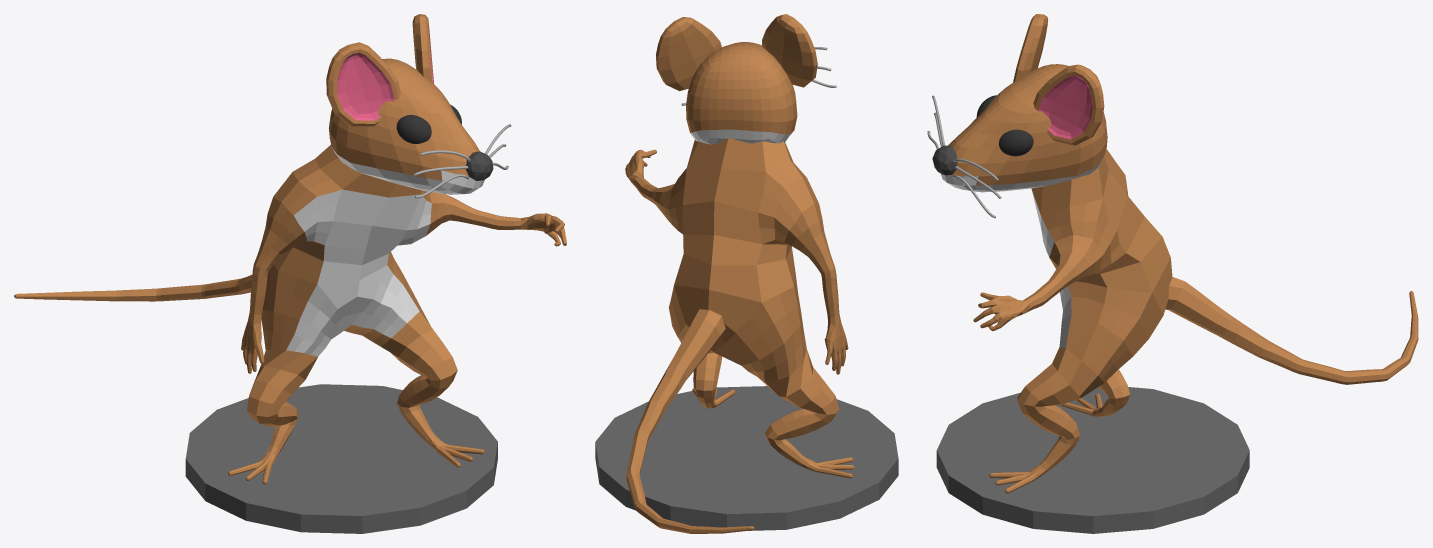
Rendered from Whiskers.glb.
The picture shows the model from 3 angles, left to right: view 1: azimuth 30°, elevation 25°; view 2: azimuth 150°, elevation 25°; view 3: azimuth 270°, elevation 25°; orthographic projection. The views are drawn at different scales.
Parts seen in each view (by area): view 1: WhiskersST; view 2: WhiskersST; view 3: WhiskersST.
Part boxes in pixels (x1,y1,x2,y2): WhiskersST: (14, 14, 566, 533); WhiskersST: (595, 14, 898, 533); WhiskersST: (927, 14, 1418, 533).
Size of the model in its own units: 1.5 by 1.89 by 1.89.
